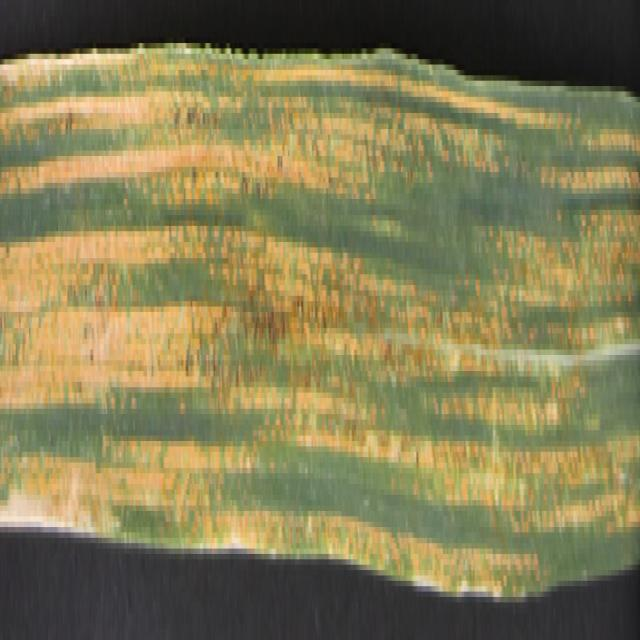leaf rust: (1, 86, 640, 576)
